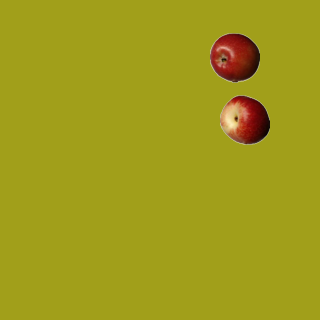Apple Braeburn: (209, 32, 259, 82)
Nectarine: (219, 94, 269, 144)
